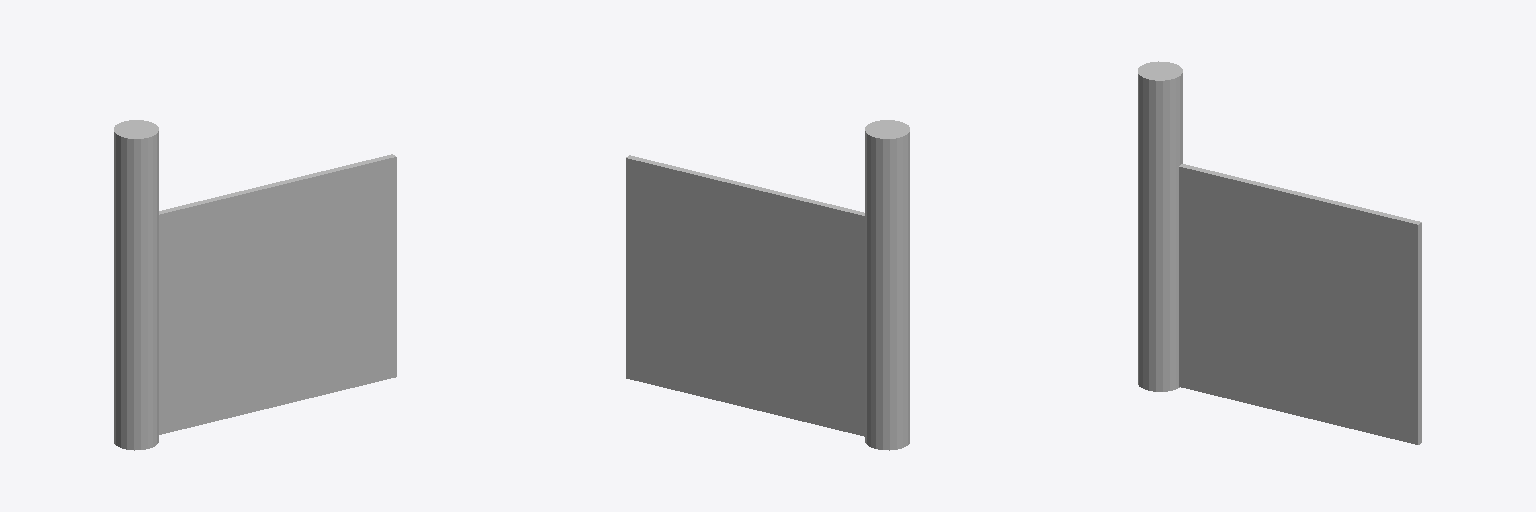
Rendered from walldouble24.obj.
3 views of the same model, side by side, from view 1: azimuth 30°, elevation 25°; view 2: azimuth 150°, elevation 25°; view 3: azimuth 330°, elevation 25° (orthographic).
Parts seen in each view (by area): view 1: walldouble24; view 2: walldouble24; view 3: walldouble24.
Boxes of the visible parts, box(x1,y1,x2,y2) form: walldouble24: box(114, 120, 396, 450); walldouble24: box(626, 120, 909, 450); walldouble24: box(1138, 61, 1421, 444).
Size of the model in its own units: 23.09 by 24.63 by 3.28.